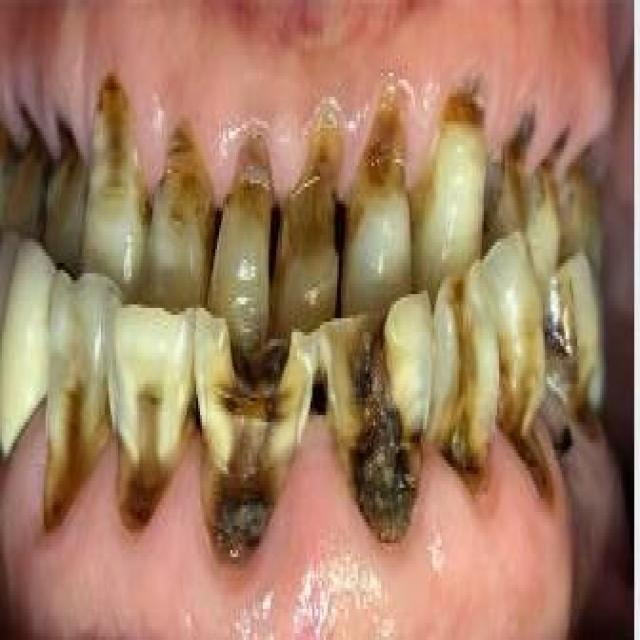caries: (197, 312, 310, 568), (324, 302, 425, 547), (430, 276, 494, 510), (114, 373, 193, 549), (146, 116, 214, 308), (34, 365, 110, 530), (497, 302, 554, 520), (271, 112, 347, 266), (348, 76, 408, 247), (85, 68, 147, 228), (212, 132, 272, 236), (488, 96, 534, 231), (431, 46, 487, 154), (42, 104, 89, 227), (5, 99, 49, 214), (574, 336, 614, 456), (528, 110, 570, 220), (549, 393, 575, 472)
